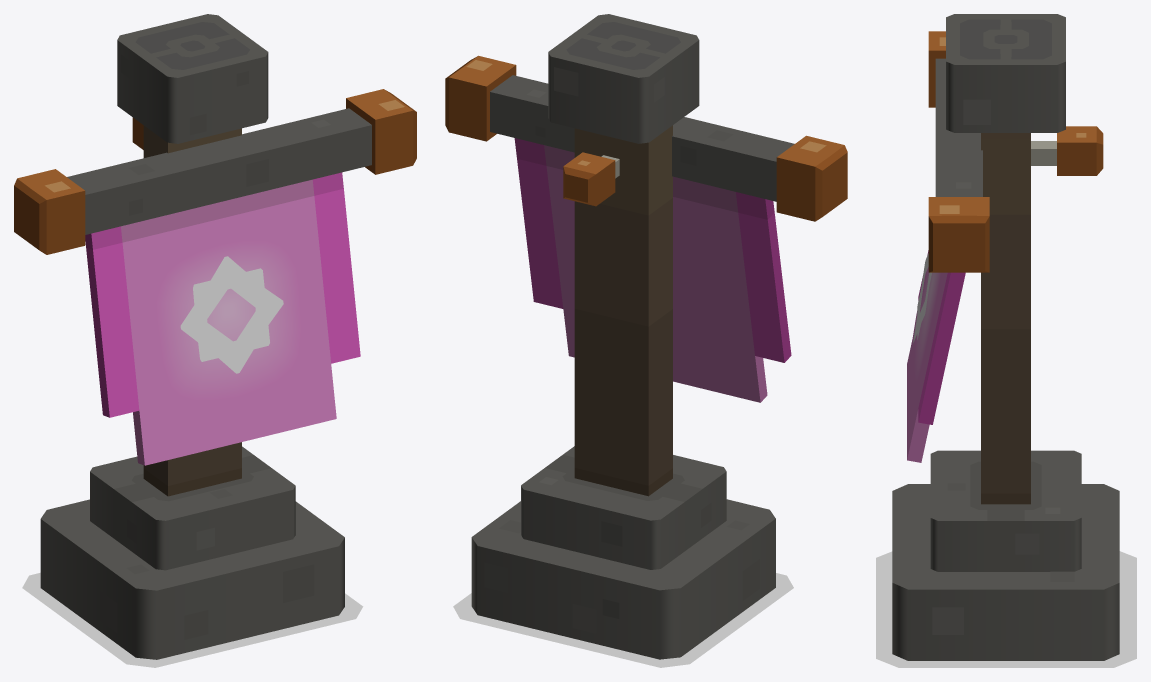
Rendered from MG_typeBanner_fairytype_02.fbx.
The picture shows the model from 3 angles, left to right: view 1: azimuth 30°, elevation 25°; view 2: azimuth 150°, elevation 25°; view 3: azimuth 270°, elevation 25°; orthographic projection. The views are drawn at different scales.
Parts seen in each view (by area): view 1: polySurface6, polySurface5, ground; view 2: polySurface6, polySurface5, ground; view 3: polySurface6, polySurface5, ground.
Boxes of the visible parts, x1,y1,x2,y2 form: polySurface6: [14, 14, 416, 659]; polySurface5: [85, 172, 360, 465]; ground: [22, 572, 363, 667]; polySurface6: [445, 14, 847, 659]; polySurface5: [514, 138, 791, 402]; ground: [453, 573, 793, 667]; polySurface6: [892, 14, 1119, 660]; polySurface5: [907, 250, 965, 462]; ground: [876, 551, 1136, 667].
Bounding box in the file's own units: 5.12 × 7.14 × 2.97.
